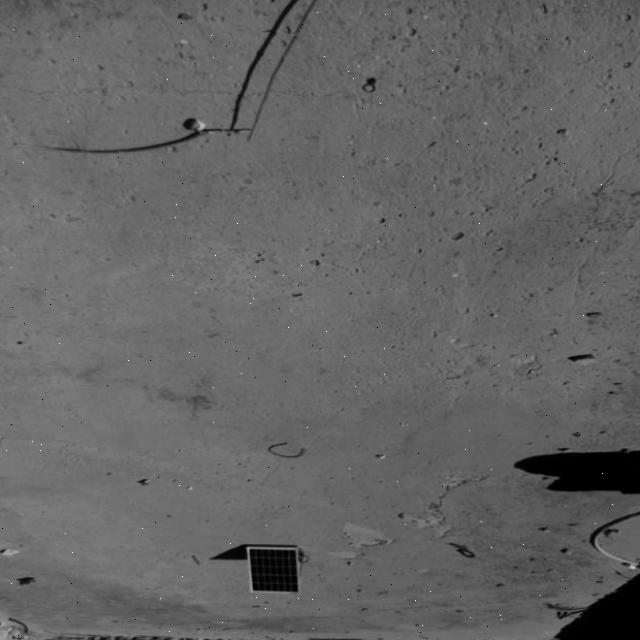Normal Solar Panel: (247, 548, 299, 594)
